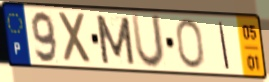9: (29, 9, 60, 64)
I: (217, 20, 232, 72)
M: (94, 13, 137, 67)
O: (174, 18, 206, 71)
U: (129, 12, 166, 72)
X: (57, 10, 94, 66)
